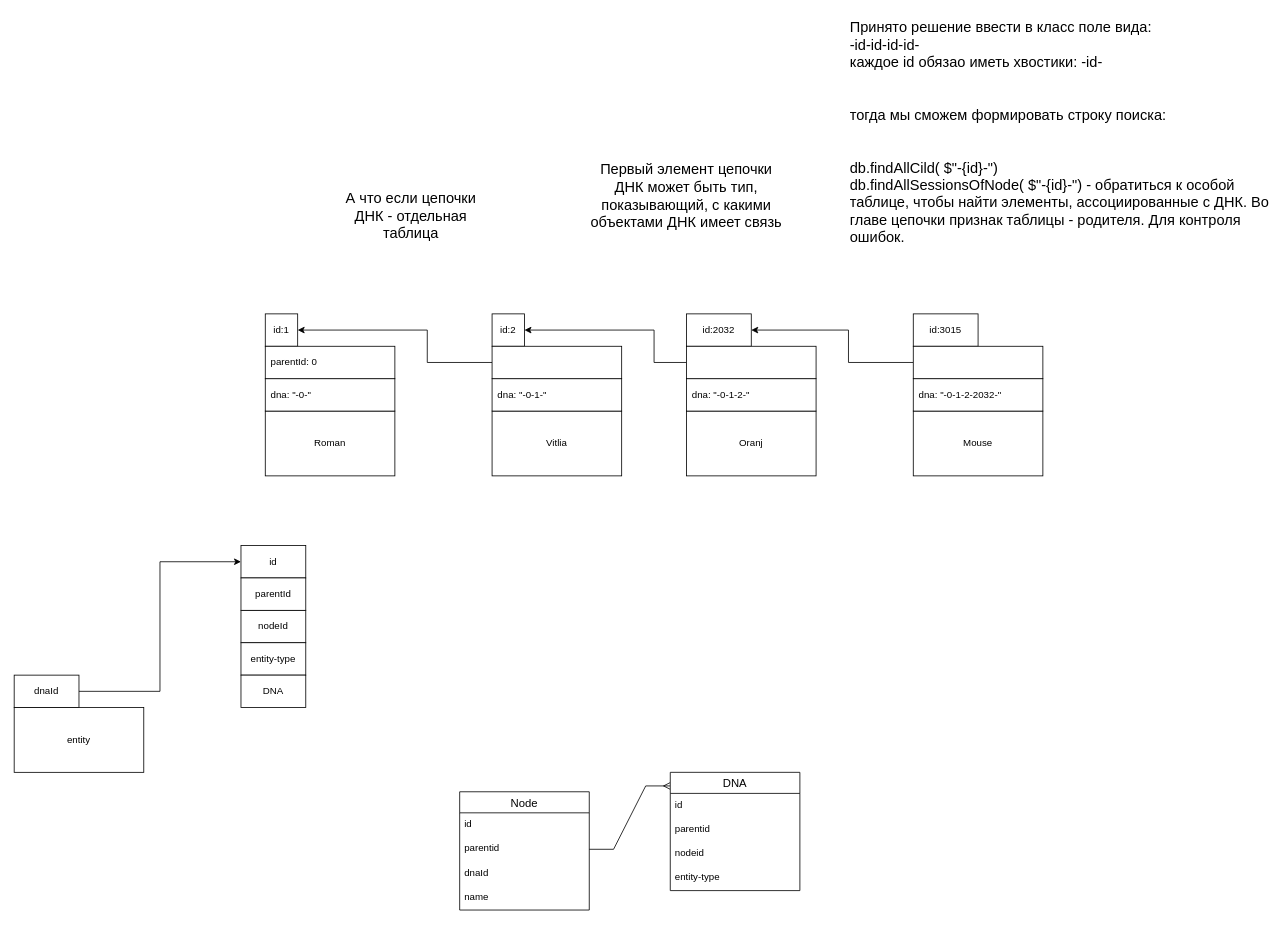
Image size: 1284x926. Some labels were removed from this diagram. Each missing label, with the centre of its shape:
"parentId: 1" belongs at pixel 556 362.
"parentId: 2" belongs at pixel 751 362.
"parentId: 2032" belongs at pixel 977 362.
